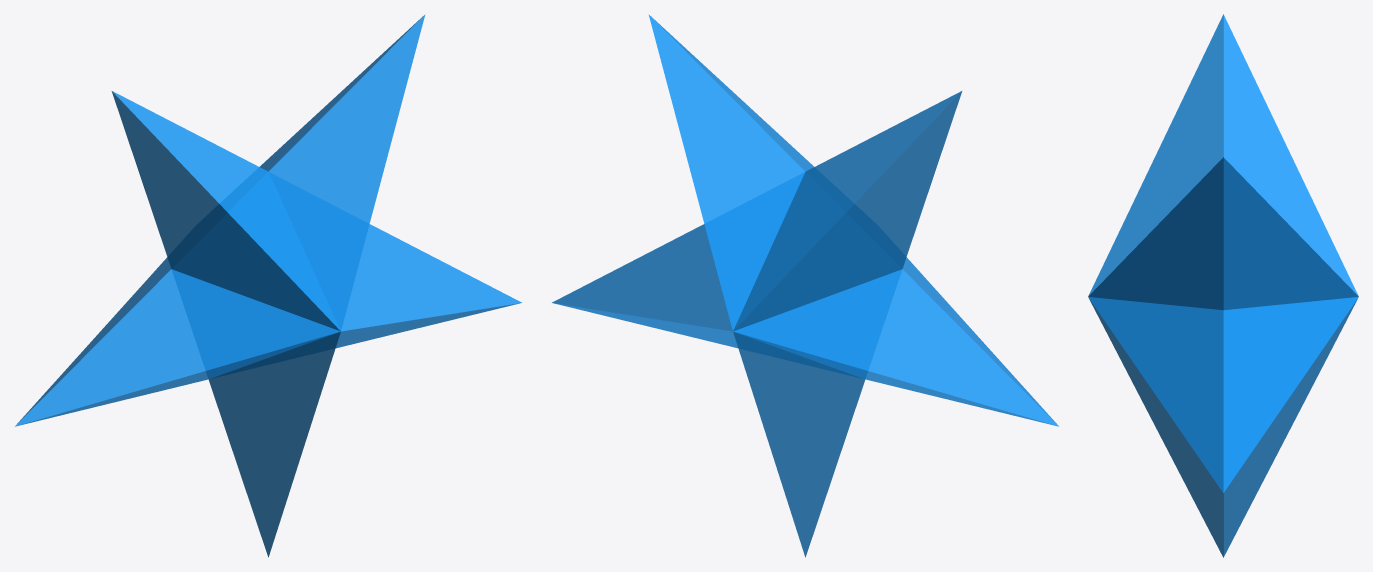
File: fractalpentagrammicdipyramid0.glb
3 views of the same model, side by side, from view 1: azimuth 30°, elevation 25°; view 2: azimuth 150°, elevation 25°; view 3: azimuth 270°, elevation 25° (orthographic). The views are drawn at different scales.
Bounding box in the file's own units: 11.63 × 11.06 × 5.75.
